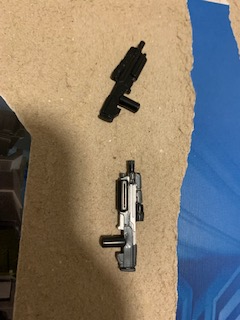rifle: (97, 158, 145, 271), (94, 39, 146, 124)
